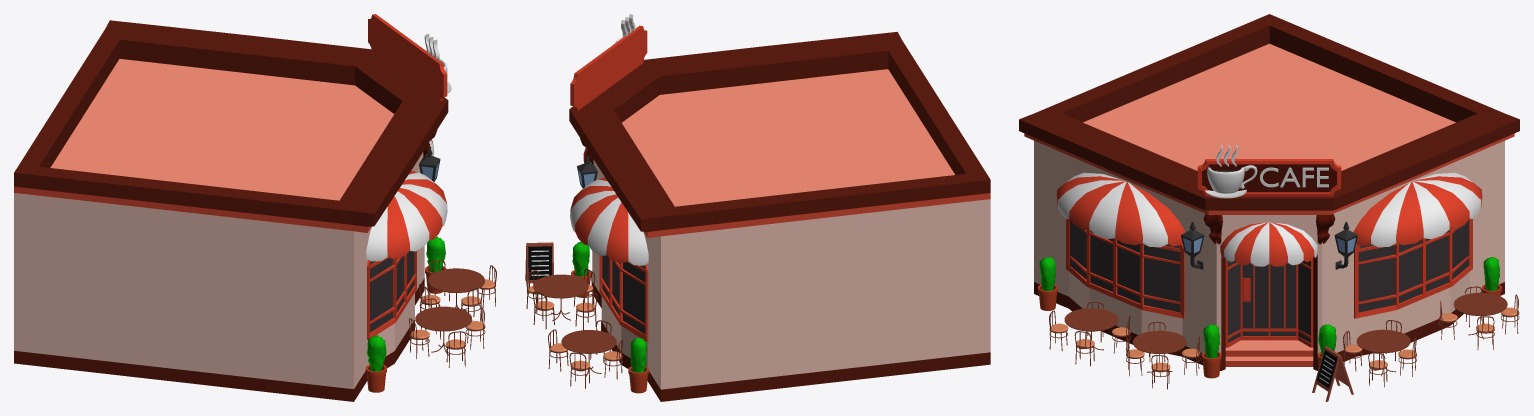
The model's file is cafe.obj.
3 renders of one model, left to right at view 1: azimuth 30°, elevation 25°; view 2: azimuth 150°, elevation 25°; view 3: azimuth 270°, elevation 25°, orthographic. The views are drawn at different scales.
Parts seen in each view (by area): view 1: CafeBuilding; view 2: CafeBuilding; view 3: CafeBuilding.
Part boxes in pixels (bbox=[...]): CafeBuilding: bbox=[14, 14, 496, 401]; CafeBuilding: bbox=[525, 14, 990, 401]; CafeBuilding: bbox=[1019, 14, 1519, 401].
Bounding box in the file's own units: 5.9 × 3.08 × 6.01.
